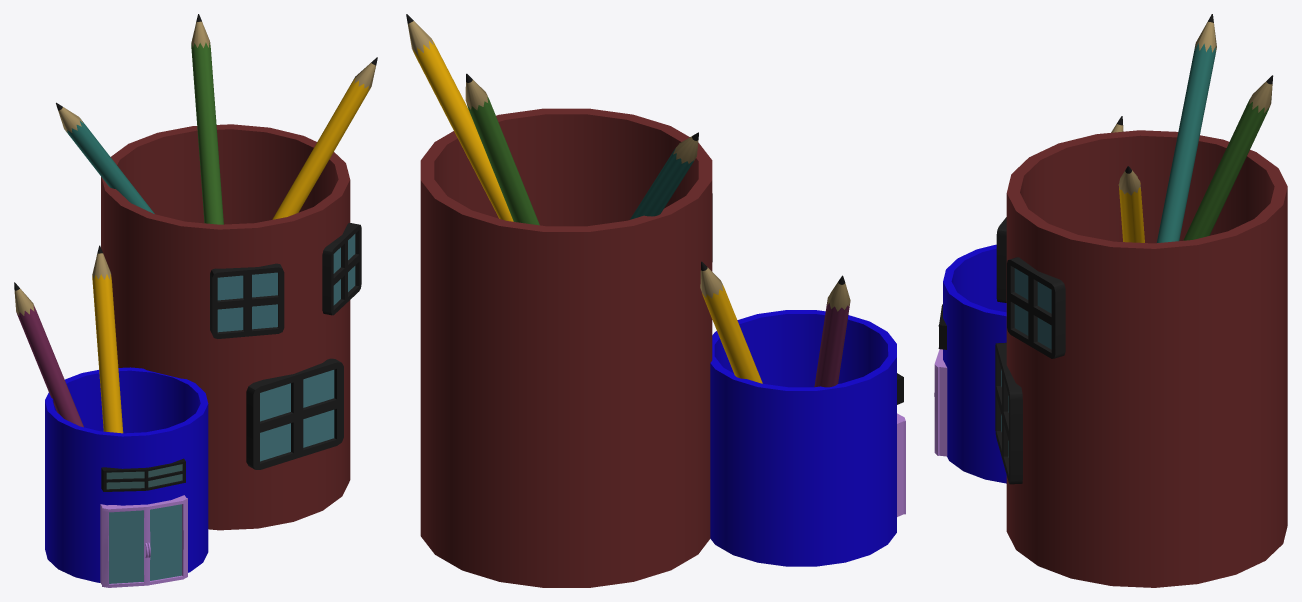
File: PencilHolderBuilding.fbx
The picture shows the model from 3 angles, left to right: view 1: azimuth 30°, elevation 25°; view 2: azimuth 150°, elevation 25°; view 3: azimuth 270°, elevation 25°; orthographic projection. The views are drawn at different scales.
Parts seen in each view (by area): view 1: pencilHolderBuilding; view 2: pencilHolderBuilding; view 3: pencilHolderBuilding.
Boxes of the visible parts, box(x1,y1,x2,y2) form: pencilHolderBuilding: box(14, 14, 377, 587); pencilHolderBuilding: box(406, 14, 905, 587); pencilHolderBuilding: box(934, 14, 1287, 587).
Size of the model in its own units: 73.74 by 79.81 by 54.52.
